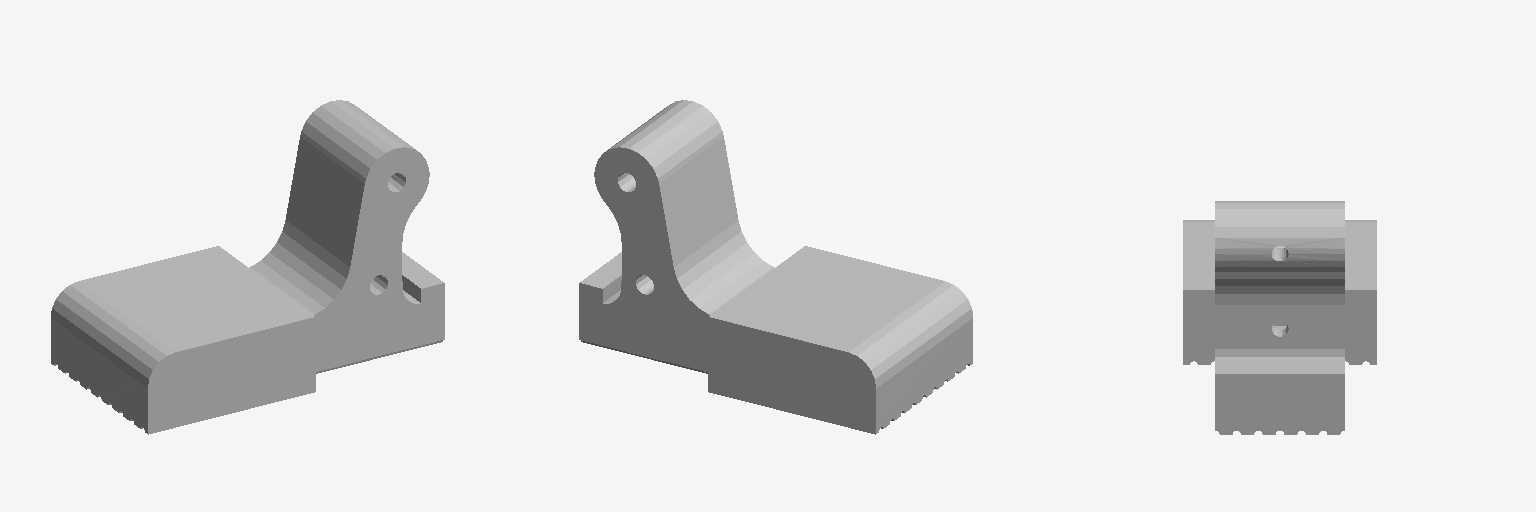
The model's file is gripper_link21.obj.
3 views of the same model, side by side, from view 1: azimuth 30°, elevation 25°; view 2: azimuth 150°, elevation 25°; view 3: azimuth 270°, elevation 25° (orthographic).
Visible parts, largest first — view 1: default; view 2: default; view 3: default.
Part boxes in pixels (x1,y1,x2,y2): default: (51, 100, 444, 434); default: (579, 100, 972, 434); default: (1183, 201, 1376, 434).
Bounding box in the file's own units: 0.0335 × 0.0214 × 0.018.